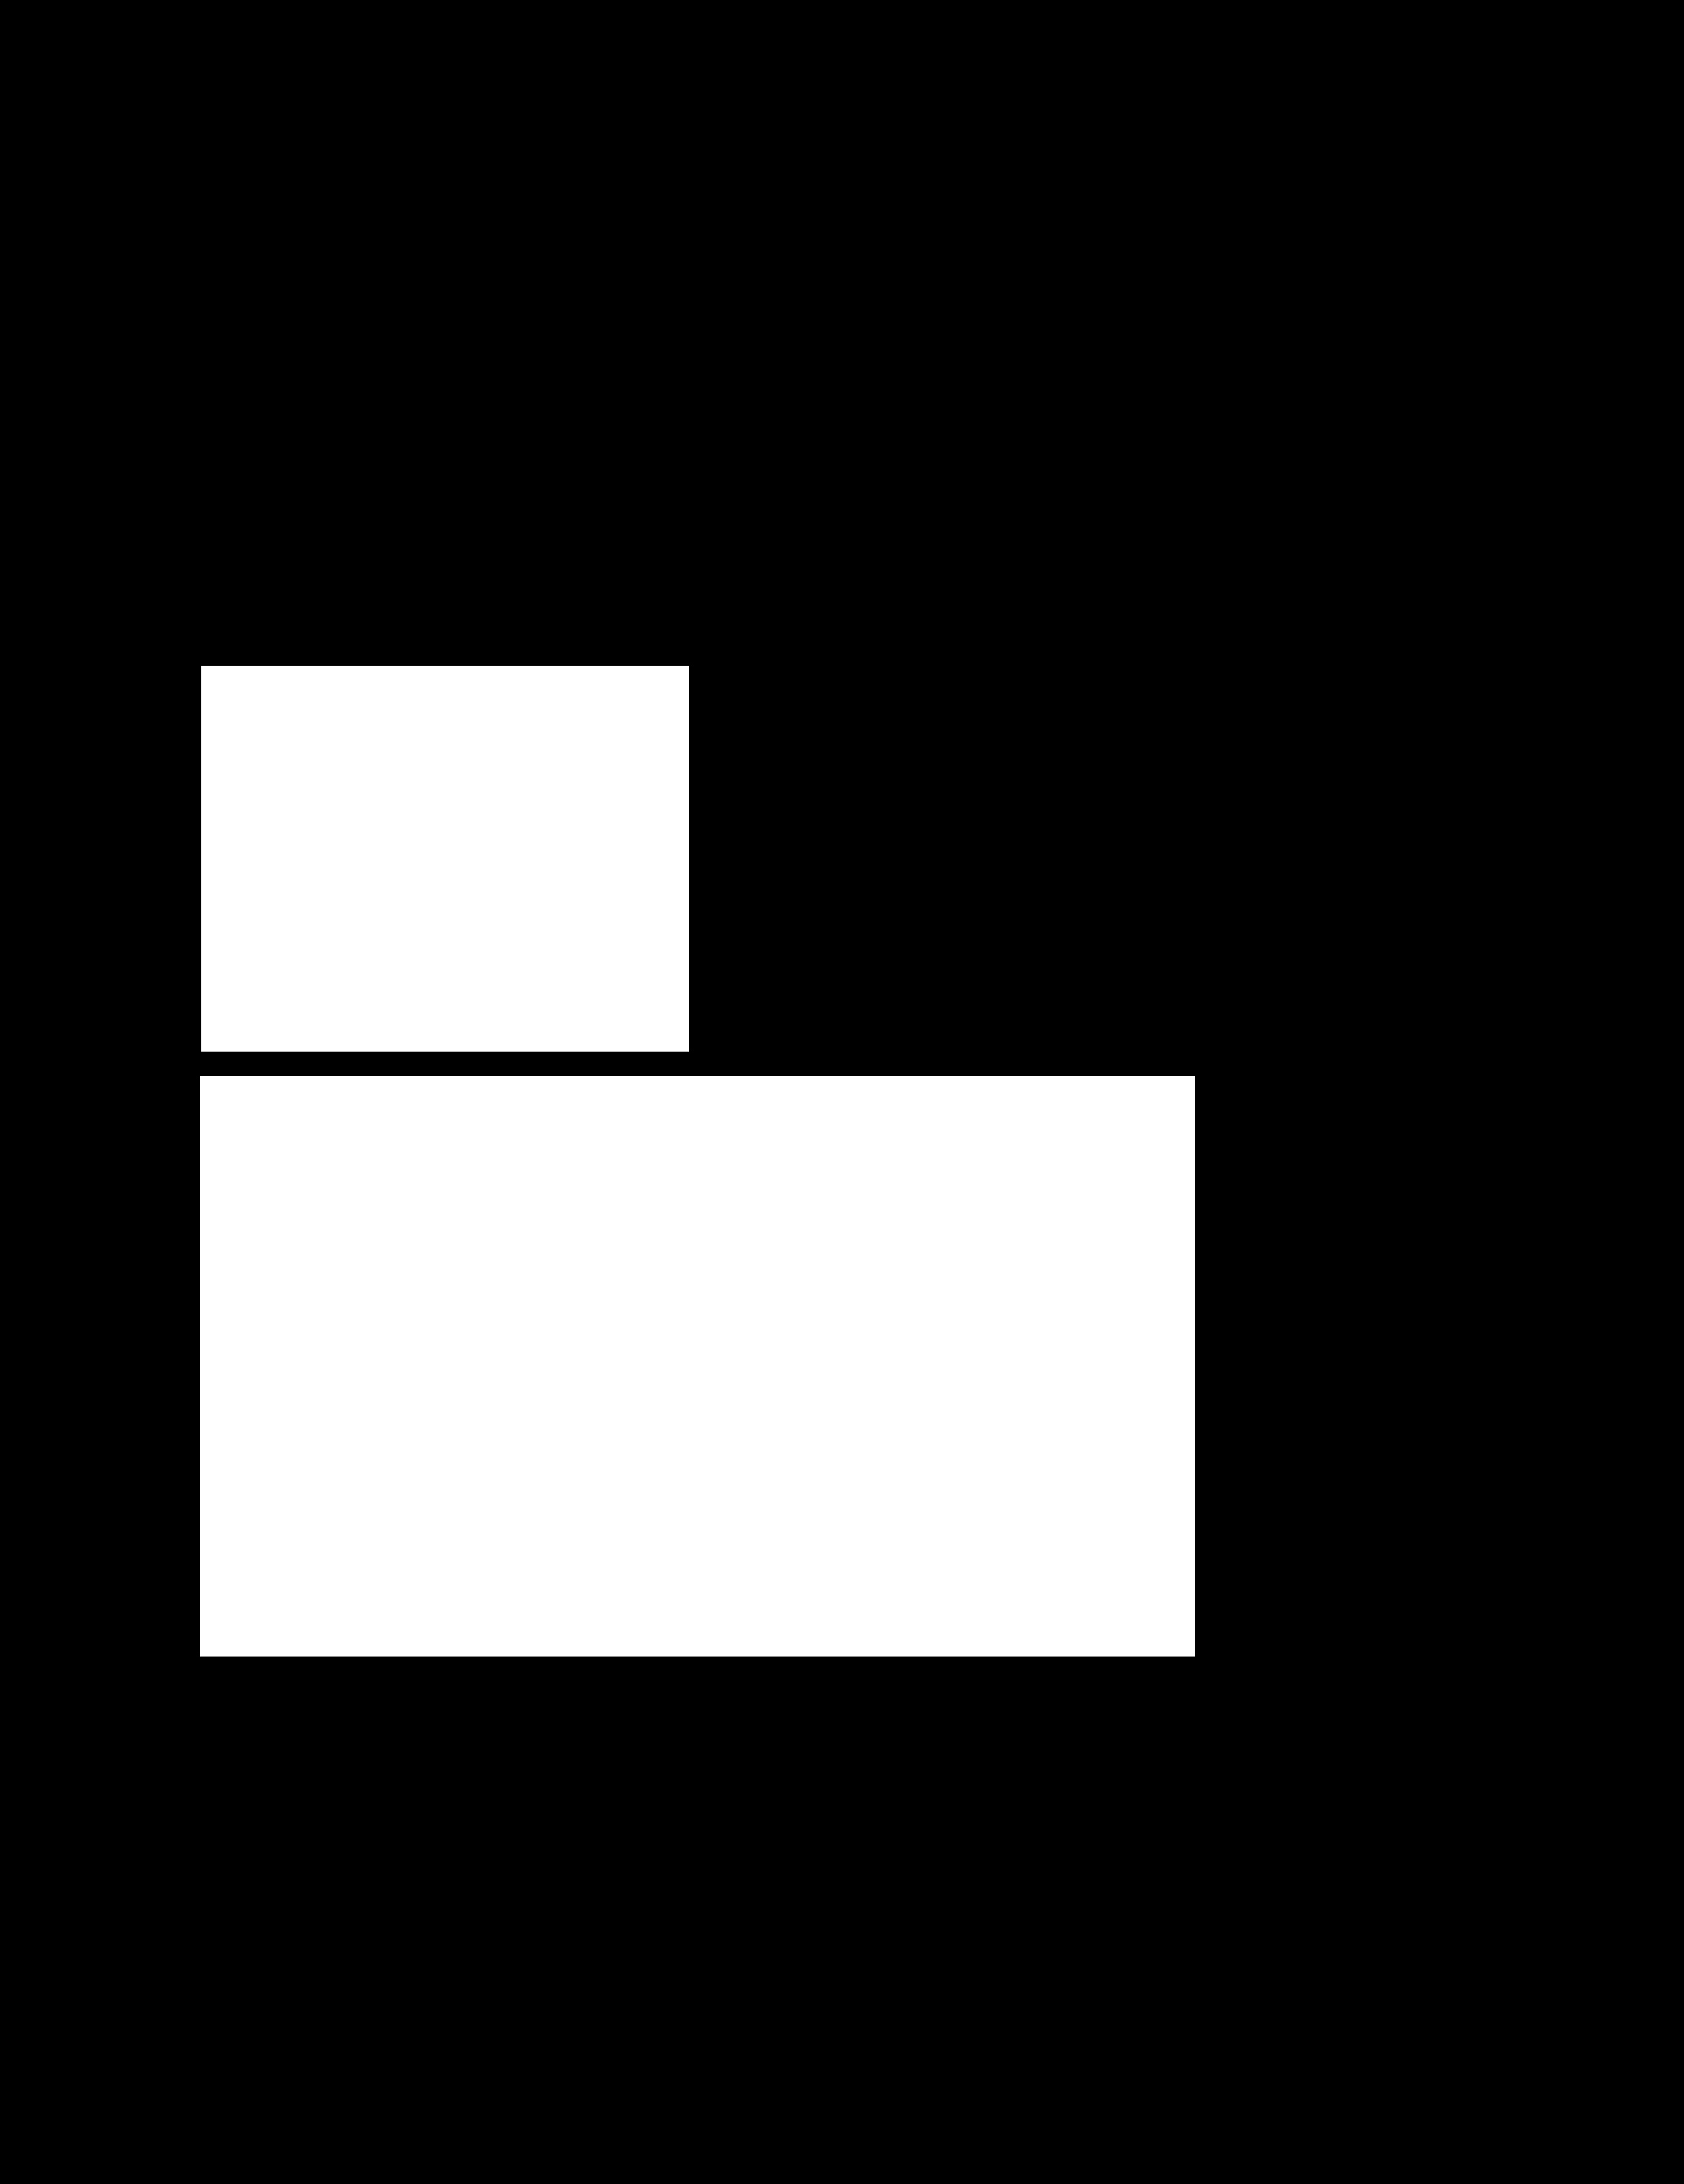table: (200, 1077, 1194, 1655), (202, 665, 688, 1050)
